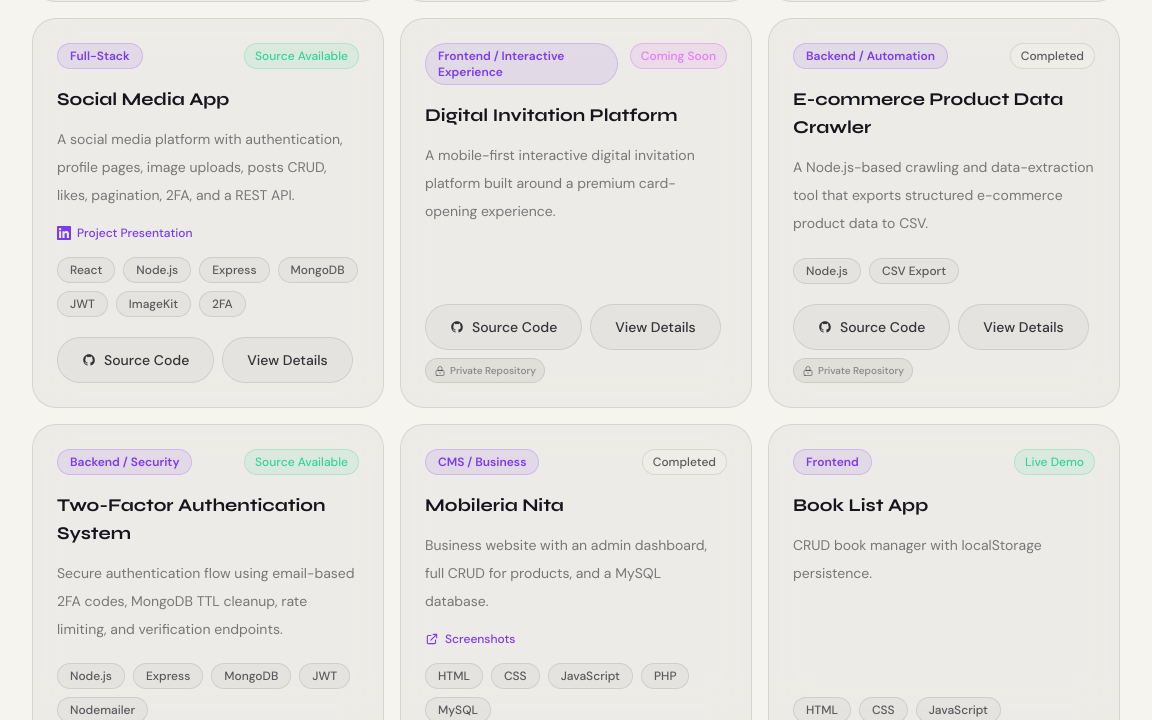
Test: Projects › Social Media App card — standardised footer › lists Source Code, Project Presentation, and no fake live demo in the details modal Resources section
(page scrolled)
Step 1. Click the button "View Details" below "ImageKit" → click(288, 360), box [222,337,353,383]
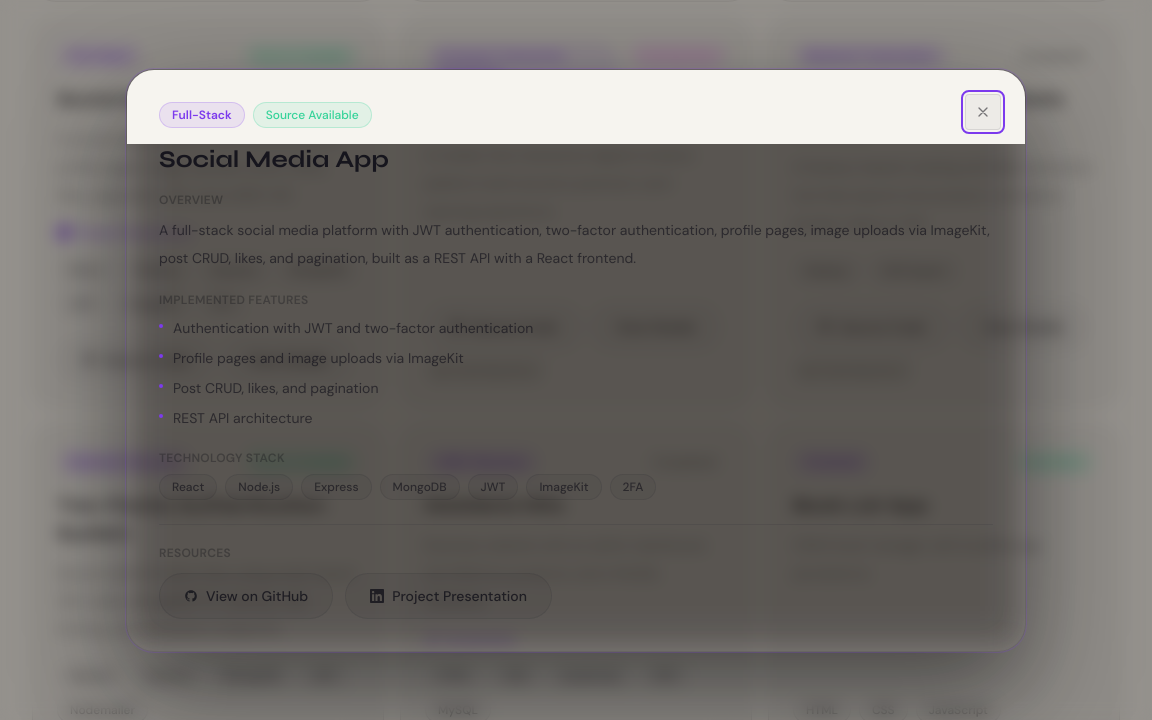
Result: the link "View on GitHub" is shown at [159,572,333,618]
Result: the link "Project Presentation" is shown at [345,572,552,618]
